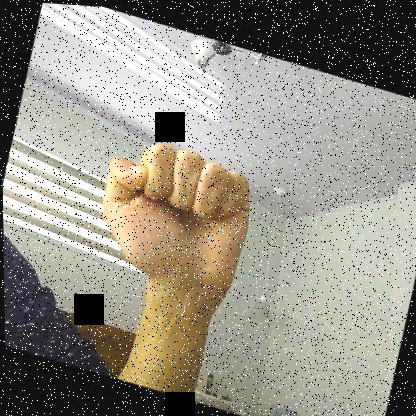A: (83, 120, 265, 303), (99, 184, 102, 185)
